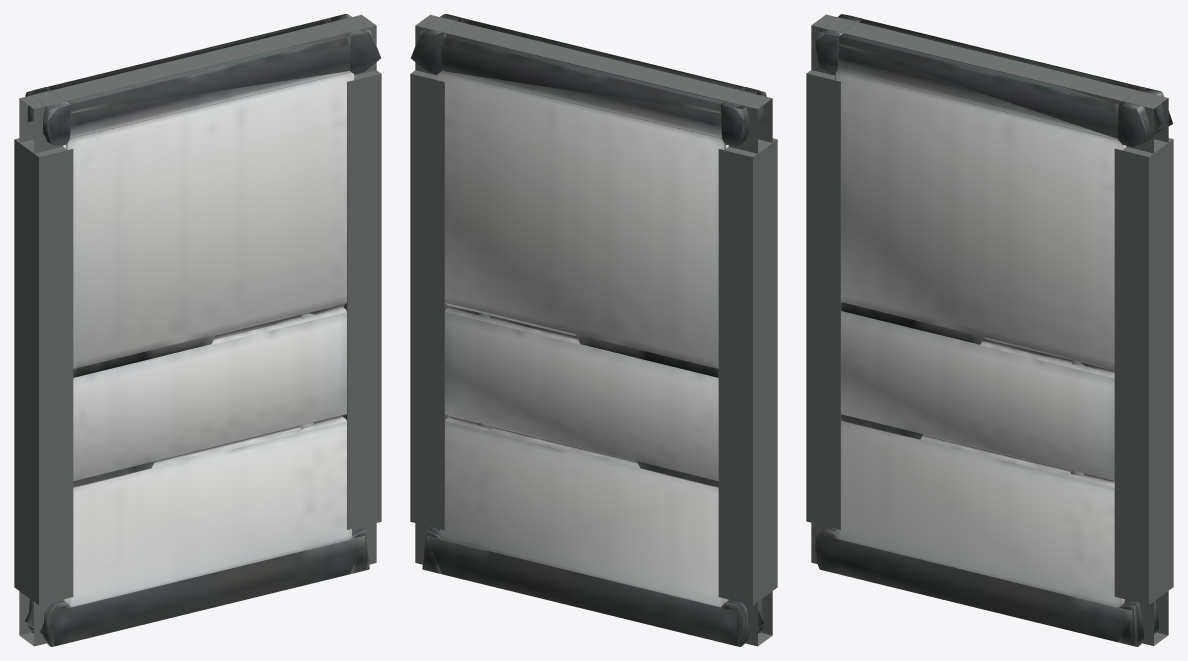
Rendered from wall.lod1.glb.
3 renders of one model, left to right at view 1: azimuth 30°, elevation 25°; view 2: azimuth 150°, elevation 25°; view 3: azimuth 330°, elevation 25°, orthographic.
Bounding box in the file's own units: 2 × 3 × 0.25.
1 material, 1 textured.
